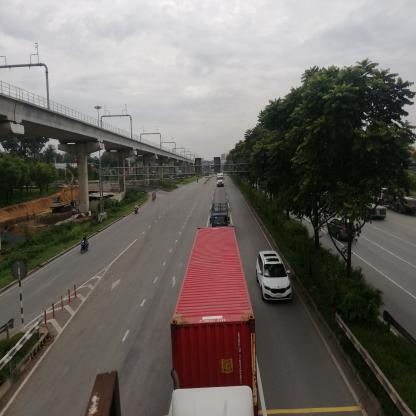car: (256, 251, 292, 308), (330, 218, 356, 242)
container: (173, 227, 260, 416), (217, 173, 226, 187)
motorbike: (81, 235, 90, 255), (133, 205, 140, 215), (153, 194, 156, 201), (198, 180, 200, 184)
truck: (212, 205, 231, 229)
